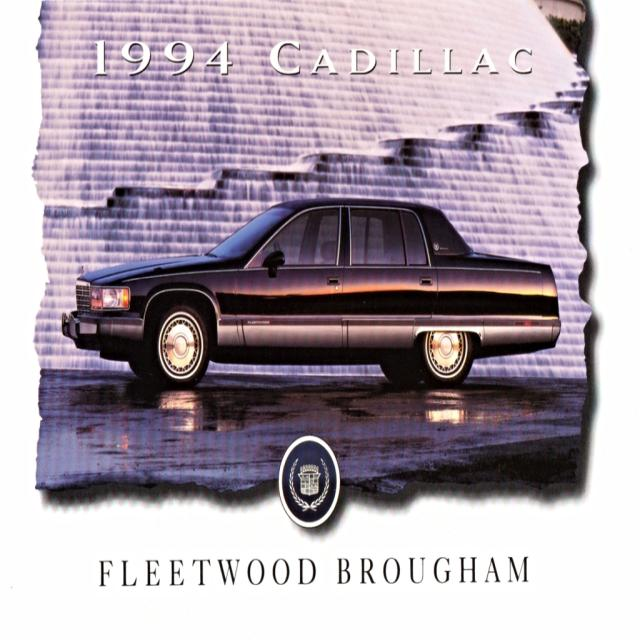car: (59, 191, 562, 391)
